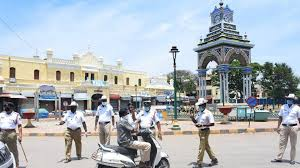mask: (192, 97, 207, 112), (117, 106, 129, 119), (286, 93, 297, 106), (69, 101, 78, 113), (100, 93, 108, 106), (3, 102, 13, 112), (141, 99, 150, 110)
